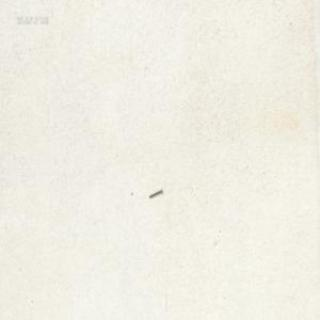Bolttrack_idkeyframe: (148, 187, 162, 199)
